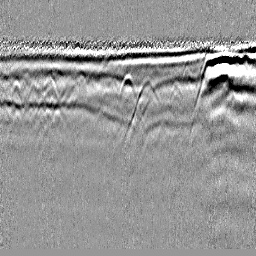cavity: (118, 71, 137, 99)
